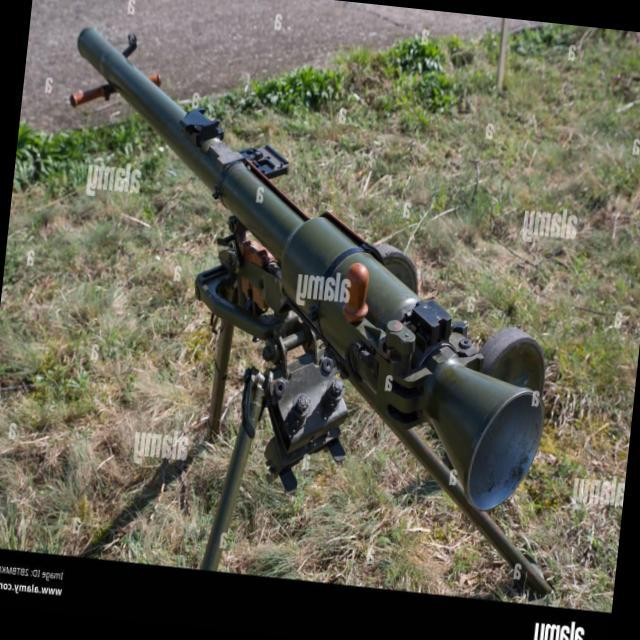rocket: (31, 26, 587, 518)
